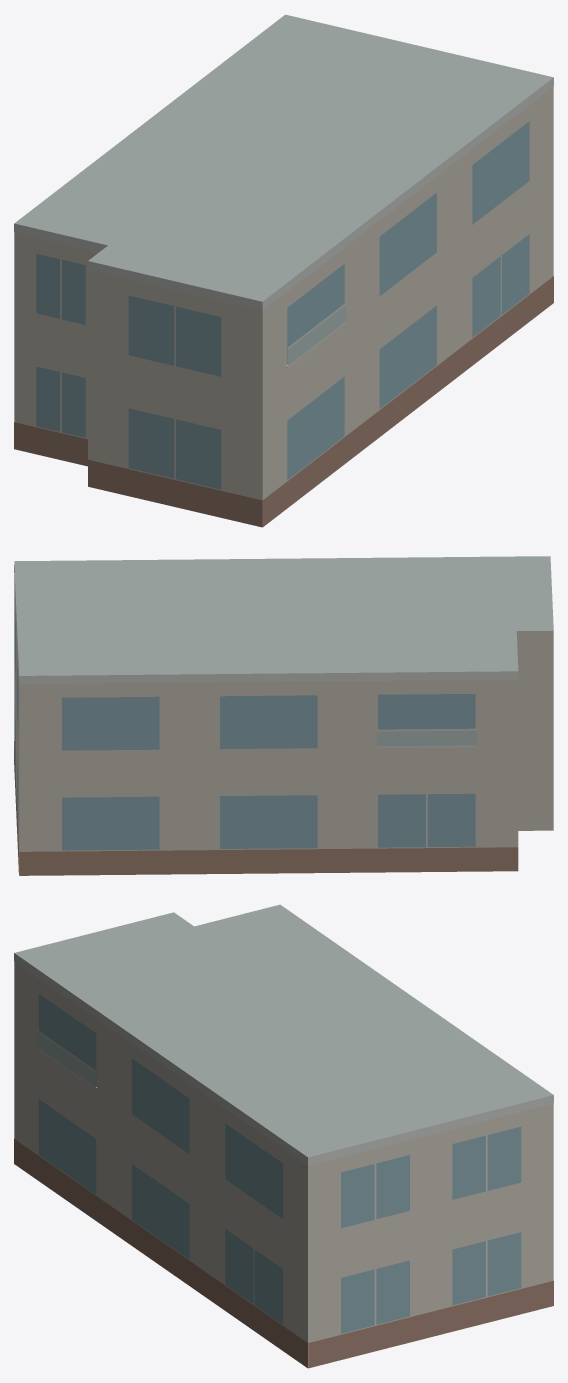
File: survey-upis-32811929.glb
3 renders of one model, top to bottom at view 1: azimuth 30°, elevation 25°; view 2: azimuth 150°, elevation 25°; view 3: azimuth 270°, elevation 25°, orthographic. The views are drawn at different scales.
Visible parts, largest first — view 1: survey-upis-32811929.tmp; view 2: survey-upis-32811929.tmp; view 3: survey-upis-32811929.tmp.
Part boxes in pixels (x1,y1,x2,y2): survey-upis-32811929.tmp: (14,14,553,527); survey-upis-32811929.tmp: (14,556,553,875); survey-upis-32811929.tmp: (14,904,553,1368).
Size of the model in its own units: 15.7 by 6.1 by 14.15.
